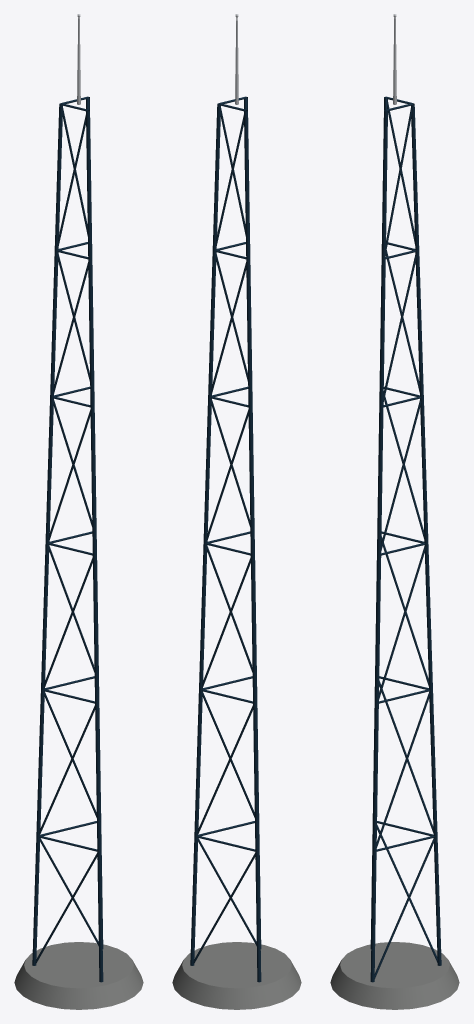
File: world_lightning_mast.glb
3 renders of one model, left to right at view 1: azimuth 90°, elevation 25°; view 2: azimuth 210°, elevation 25°; view 3: azimuth 270°, elevation 25°, orthographic.
Parts seen in each view (by area): view 1: world_lightning_mast_mesh; view 2: world_lightning_mast_mesh; view 3: world_lightning_mast_mesh.
Part boxes in pixels (left/top/right/bottom): world_lightning_mast_mesh: left=14, top=14, right=143, bottom=1009; world_lightning_mast_mesh: left=172, top=14, right=301, bottom=1009; world_lightning_mast_mesh: left=330, top=14, right=459, bottom=1009.
Size of the model in its own units: 4 by 33.08 by 4.
